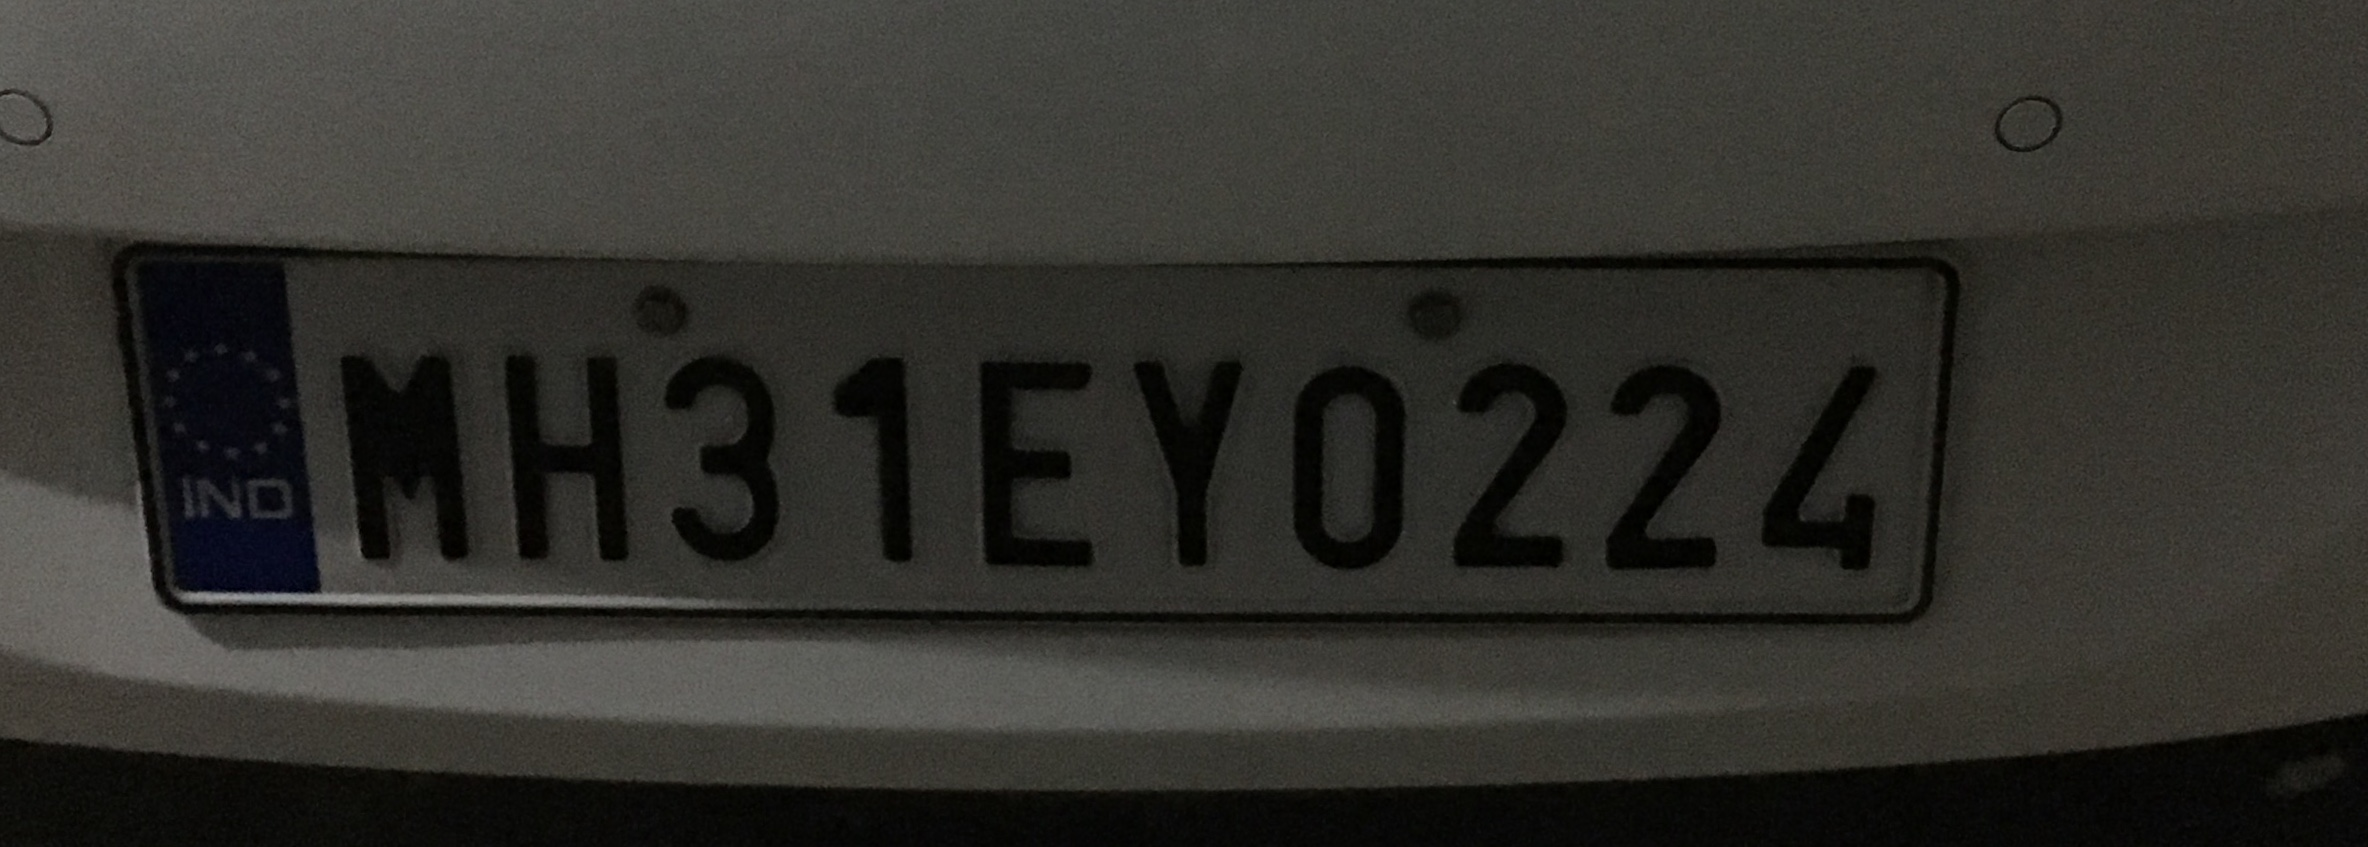numberplate: (103, 240, 1977, 643)
